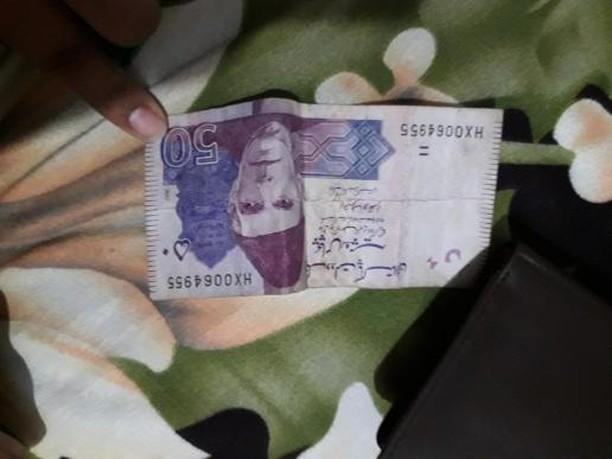50 rupee: (124, 115, 506, 297)
